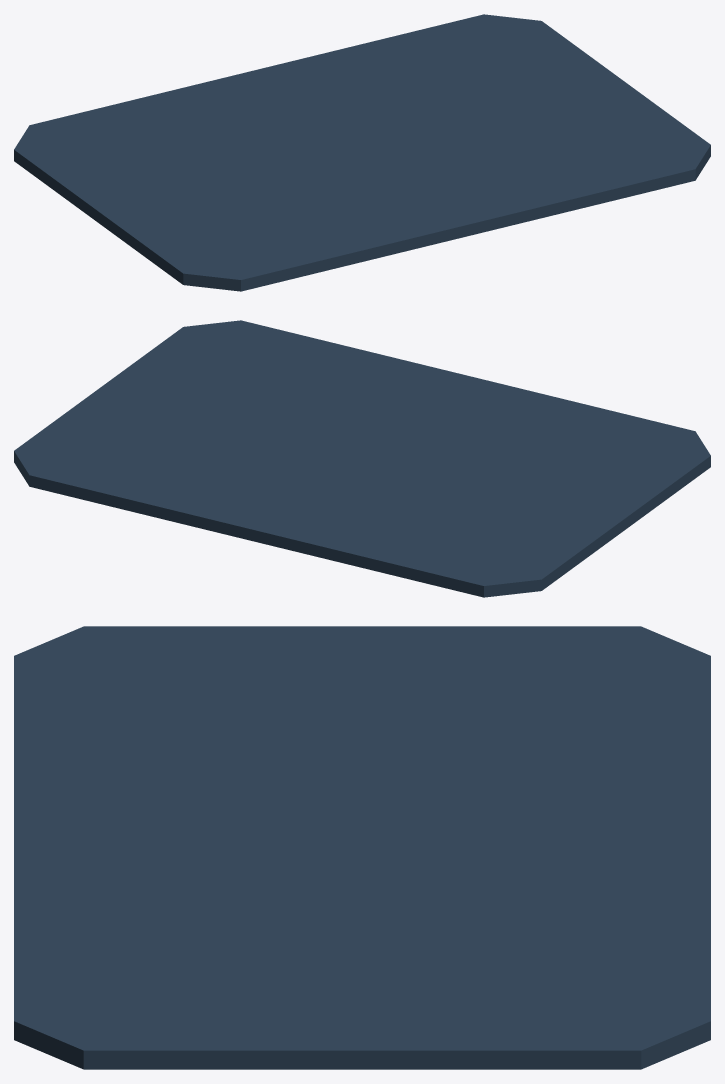
Rendered from base_chamfered_bluegrey.dae.
The picture shows the model from 3 angles, top to bottom: view 1: azimuth 30°, elevation 25°; view 2: azimuth 150°, elevation 25°; view 3: azimuth 270°, elevation 25°; orthographic projection. The views are drawn at different scales.
Visible parts, largest first — view 1: body-node; view 2: body-node; view 3: body-node.
Boxes of the visible parts, box(x1,y1,x2,y2) form: body-node: box(14, 14, 710, 291); body-node: box(14, 320, 710, 597); body-node: box(14, 626, 710, 1069).
Size of the model in its own units: 0.144 by 0.1 by 0.003.
